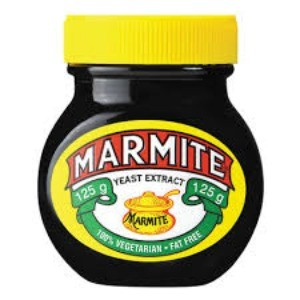yeast spread_brain food: (35, 99, 258, 229)
